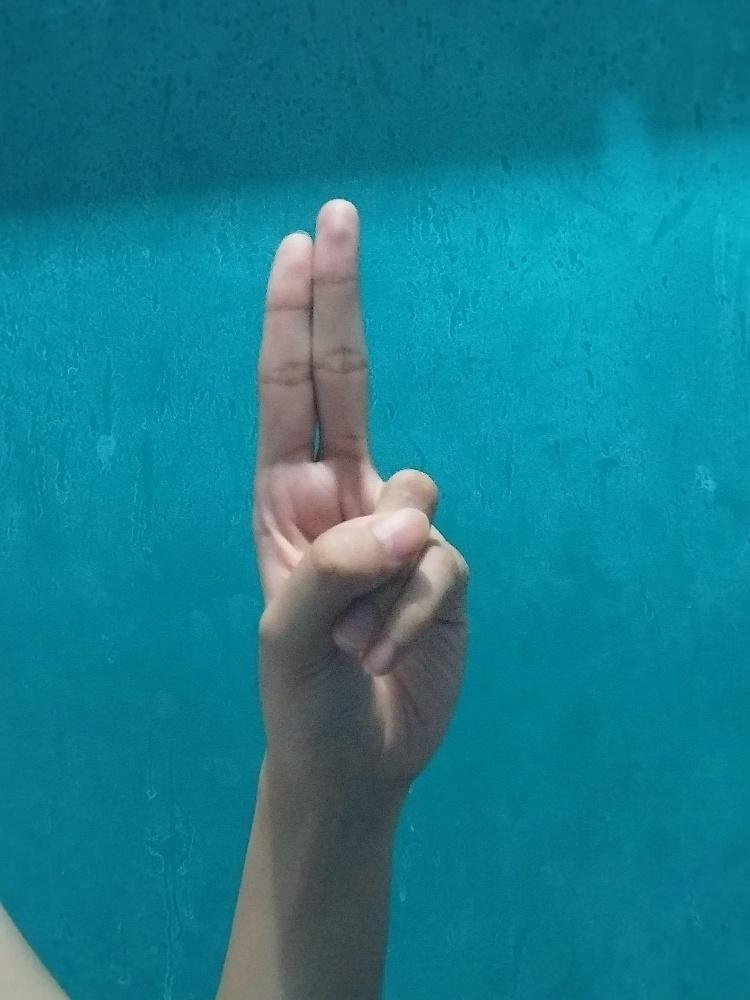u: (249, 199, 473, 795)
